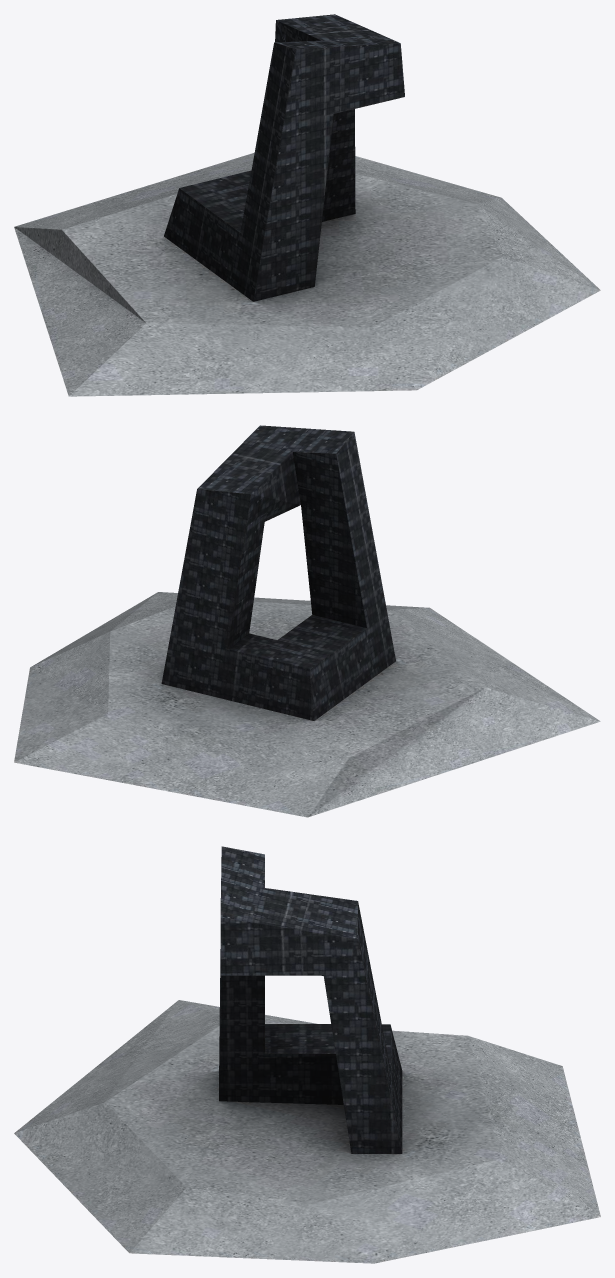
Rendered from cctv.DAE.
The picture shows the model from 3 angles, top to bottom: view 1: azimuth 30°, elevation 25°; view 2: azimuth 150°, elevation 25°; view 3: azimuth 270°, elevation 25°; orthographic projection. The views are drawn at different scales.
Visible parts, largest first — view 1: objpolymsh; view 2: objpolymsh; view 3: objpolymsh.
Boxes of the visible parts, left/top/right/bottom form: objpolymsh: left=14, top=14, right=600, bottom=396; objpolymsh: left=14, top=425, right=600, bottom=817; objpolymsh: left=14, top=846, right=600, bottom=1263.
Bounding box in the file's own units: 21.52 × 20.24 × 10.56.
